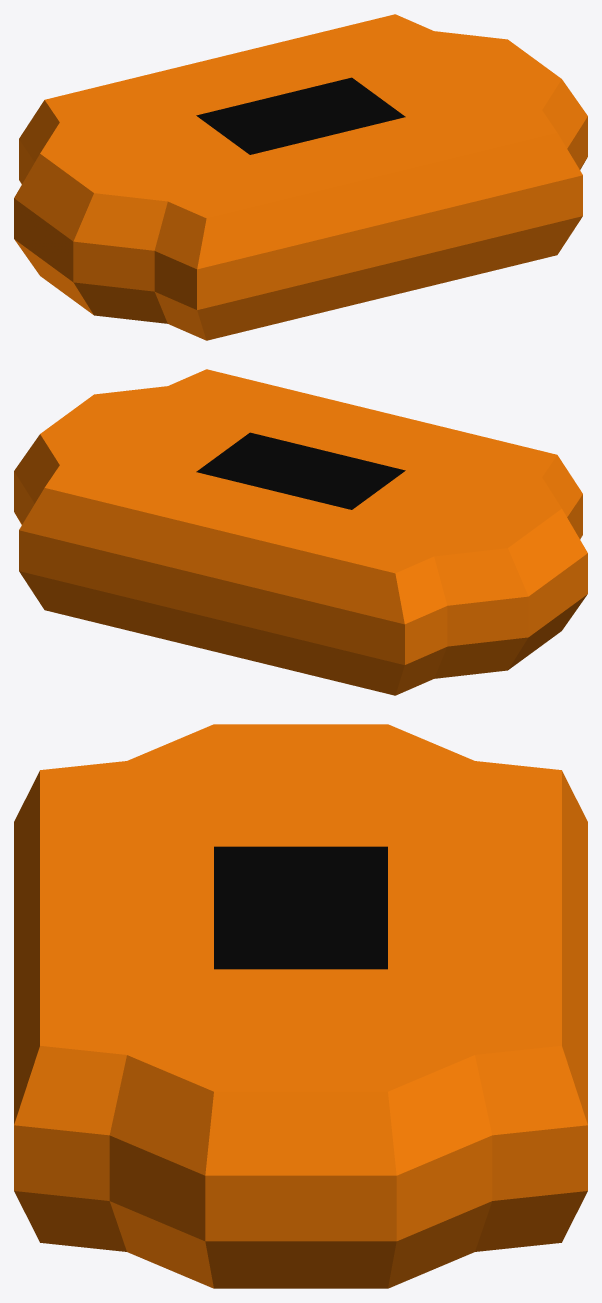
Rendered from Nota_Naranja.fbx.
3 renders of one model, top to bottom at view 1: azimuth 30°, elevation 25°; view 2: azimuth 150°, elevation 25°; view 3: azimuth 270°, elevation 25°, orthographic. The views are drawn at different scales.
Visible parts, largest first — view 1: Nota_Naranja; view 2: Nota_Naranja; view 3: Nota_Naranja.
Part boxes in pixels (x1,y1,x2,y2): Nota_Naranja: [14, 14, 587, 340]; Nota_Naranja: [14, 369, 587, 695]; Nota_Naranja: [14, 724, 587, 1288].
Bounding box in the file's own units: 2.2 × 0.5 × 1.32.
